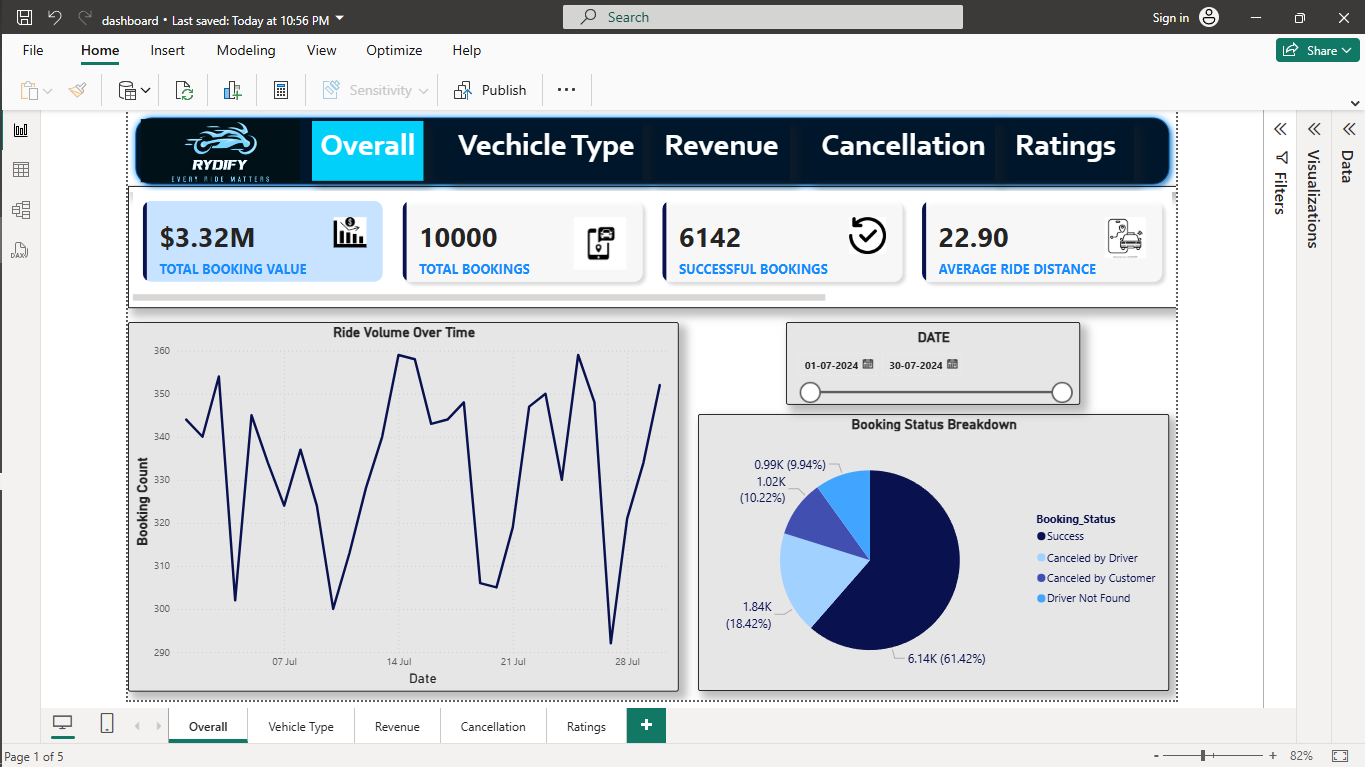

This screenshot's page, from the dashboard's own definition file:
{"tool":"powerbi","page":{"name":"Overall","canvas":[1280,720],"ordinal":0},"visuals":[{"type":"shape","box":[0,0,1280,100],"z":0},{"type":"textbox","box":[224,13.3,136,73.3],"z":1000},{"type":"textbox","box":[392,13.3,237.3,73.3],"z":2000},{"type":"textbox","box":[640,13.3,169.3,73.3],"z":3000},{"type":"textbox","box":[833.3,13.3,225.3,73.3],"z":4000},{"type":"textbox","box":[1058.7,13.3,169.3,73.3],"z":5000},{"type":"image","box":[14.7,6.7,200,86.7],"z":6000},{"type":"actionButton","box":[392,10.7,237.3,76],"z":7000},{"type":"actionButton","box":[640,13.3,169.3,73.3],"z":8000},{"type":"actionButton","box":[833.3,12,225.3,73.3],"z":9000},{"type":"actionButton","box":[1058.7,10.7,169.3,73.3],"z":10000},{"type":"cardVisual","fields":{"Data":["DAX measures.Total Revenue","DAX measures.Total Bookings","DAX measures.Successful Bookings","DAX measures.Average Ride Distance","DAX measures.Average Driver Rating","DAX measures.Average Customer Rating"]},"box":[0,100.1,1280.1,148.9],"z":11000},{"type":"lineChart","title":"Ride Volume Over Time","fields":{"Category":["cleaned_kanpur_data.Date"],"Y":["CountNonNull(cleaned_kanpur_data.Booking_ID)"]},"box":[0,258.7,672,450.7],"z":12000},{"type":"pieChart","title":"Booking Status Breakdown","fields":{"Category":["cleaned_kanpur_data.Booking_Status"],"Y":["Count(cleaned_kanpur_data.Booking_ID)"]},"box":[695.5,371.2,574.6,337.9],"z":13000},{"type":"slicer","title":"DATE","fields":{"Values":["cleaned_kanpur_data.Date"]},"box":[802.8,259,358.8,101.1],"z":14000}]}

Visuals, with their boxes on the page's 1280x720 design canvas (x1, y1, x2, y2). These are canvas units, not pixel positions in the 1365x767 screenshot, which may show the page scaled, cropped or inside an application window:
shape: (x1=0, y1=0, x2=1280, y2=100)
textbox: (x1=224, y1=13, x2=360, y2=87)
textbox: (x1=392, y1=13, x2=629, y2=87)
textbox: (x1=640, y1=13, x2=809, y2=87)
textbox: (x1=833, y1=13, x2=1059, y2=87)
textbox: (x1=1059, y1=13, x2=1228, y2=87)
image: (x1=15, y1=7, x2=215, y2=93)
actionButton: (x1=392, y1=11, x2=629, y2=87)
actionButton: (x1=640, y1=13, x2=809, y2=87)
actionButton: (x1=833, y1=12, x2=1059, y2=85)
actionButton: (x1=1059, y1=11, x2=1228, y2=84)
cardVisual - DAX measures.Total Revenue x DAX measures.Total Bookings: (x1=0, y1=100, x2=1280, y2=249)
"Ride Volume Over Time" lineChart: (x1=0, y1=259, x2=672, y2=709)
"Booking Status Breakdown" pieChart: (x1=696, y1=371, x2=1270, y2=709)
"DATE" slicer: (x1=803, y1=259, x2=1162, y2=360)
